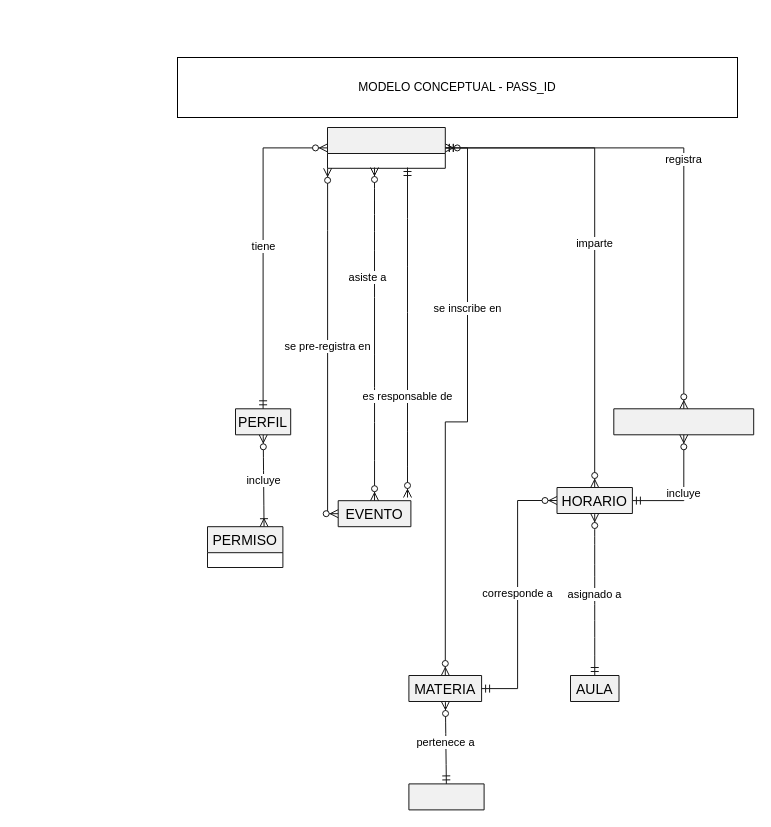
Some shapes in this 771 by 827 pixel diagram are drawn without their labels. The shapes that lost their labels are listed below. From the top down, each one's centre as x and y in pixels, then its label:
[385,147]: USUARIO
[683,421]: ASISTENCIA_CLASE
[446,796]: CARRERA
